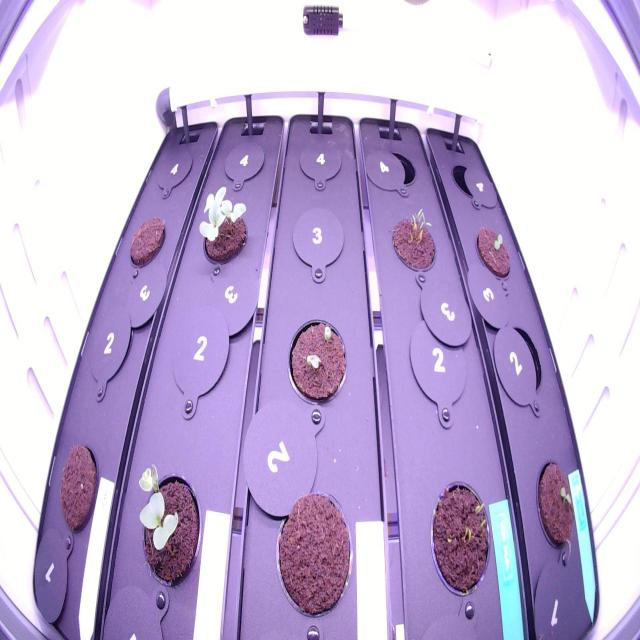empty_pod: (166, 298, 234, 411), (404, 315, 469, 409), (82, 304, 138, 400), (493, 316, 550, 406), (290, 203, 348, 277), (216, 126, 270, 186), (292, 130, 346, 190), (371, 138, 424, 198), (150, 138, 197, 202), (446, 150, 493, 208)
germination: (132, 454, 207, 593), (424, 469, 495, 606), (282, 309, 353, 412), (192, 178, 254, 278), (530, 452, 585, 553), (384, 196, 442, 281), (472, 214, 515, 284)
pod: (268, 477, 365, 626), (56, 435, 102, 540), (124, 202, 169, 274)
